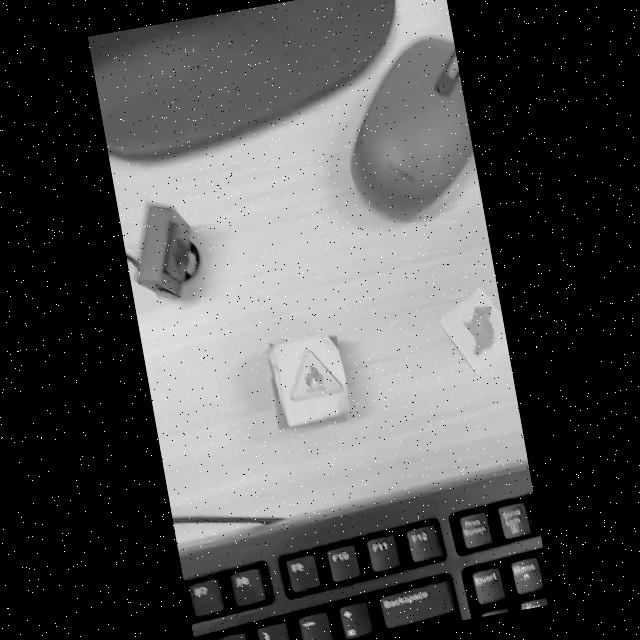Fire: (290, 347, 341, 400)
